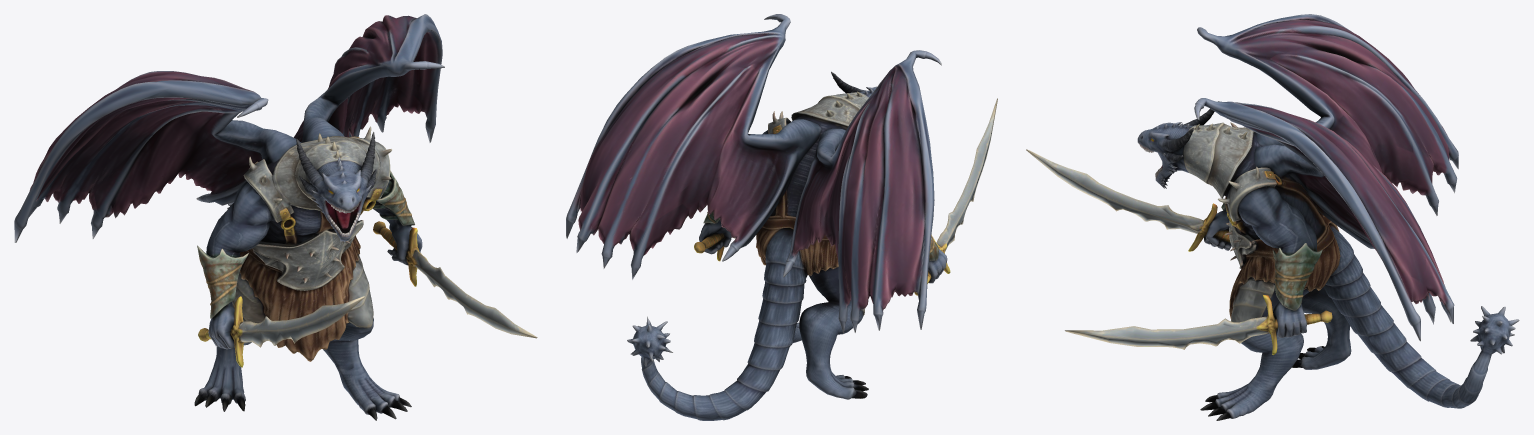
File: MZ4250 - Draconian Dreadnought.glb
The picture shows the model from 3 angles, left to right: view 1: azimuth 30°, elevation 25°; view 2: azimuth 150°, elevation 25°; view 3: azimuth 270°, elevation 25°; orthographic projection. The views are drawn at different scales.
Parts seen in each view (by area): view 1: wings_low.001, body_low.001, blade2_low.001, blade1_low.001; view 2: wings_low.001, body_low.001, blade2_low.001, blade1_low.001; view 3: wings_low.001, body_low.001, blade1_low.001, blade2_low.001.
Part boxes in pixels (x1,y1,x2,y2): wings_low.001: (14,14,444,242); body_low.001: (194,126,422,420); blade2_low.001: (198,296,364,367); blade1_low.001: (373,221,537,338); wings_low.001: (566,14,941,333); body_low.001: (627,71,947,420); blade2_low.001: (914,98,997,295); blade1_low.001: (694,233,734,261); wings_low.001: (1194,14,1458,341); body_low.001: (1137,101,1519,420); blade1_low.001: (1065,294,1332,354); blade2_low.001: (1026,149,1230,251).
Size of the model in its own units: 7.81 by 6.41 by 8.78.
1 material, 1 textured.
